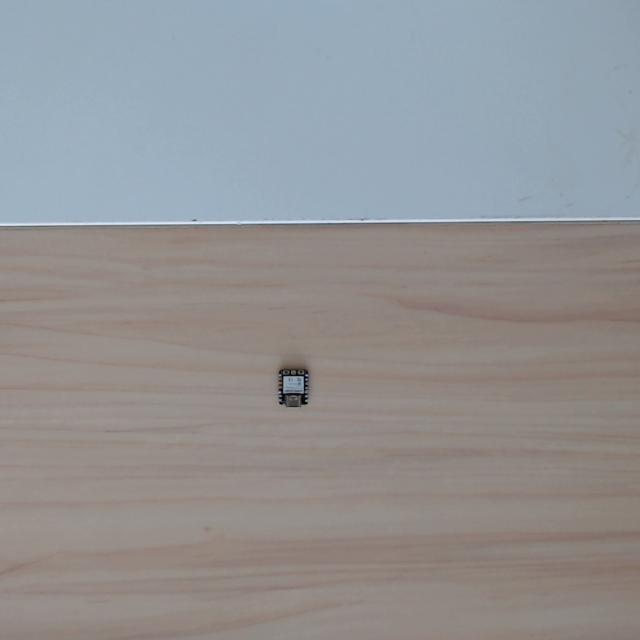ESP32C3-Xiao: (276, 368, 309, 409)
